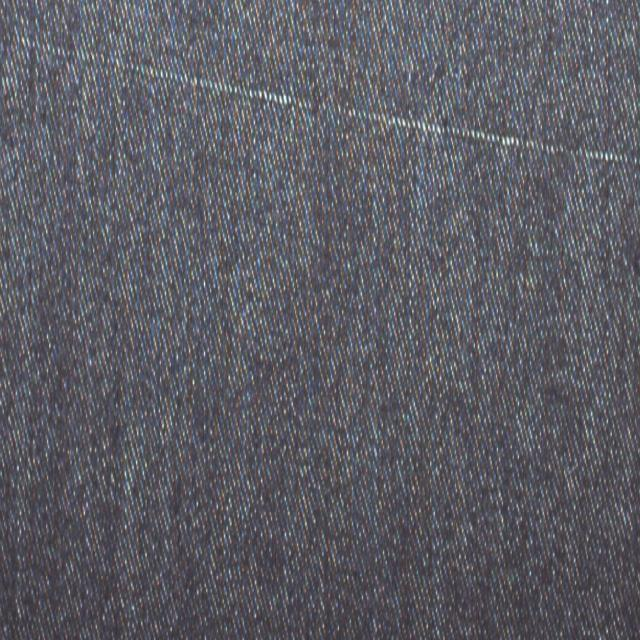Warp_Weft: (0, 25, 640, 168)
